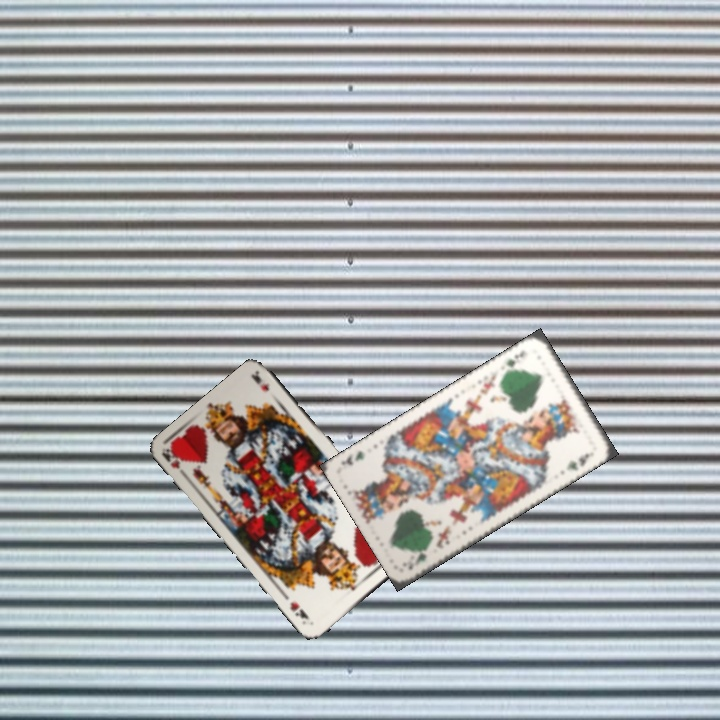GK: (399, 543, 433, 573), (501, 346, 527, 376)
HK: (158, 444, 191, 482)
